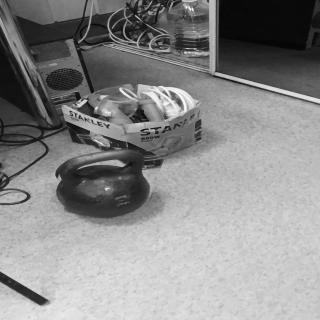kettlebell: (53, 146, 162, 220)
